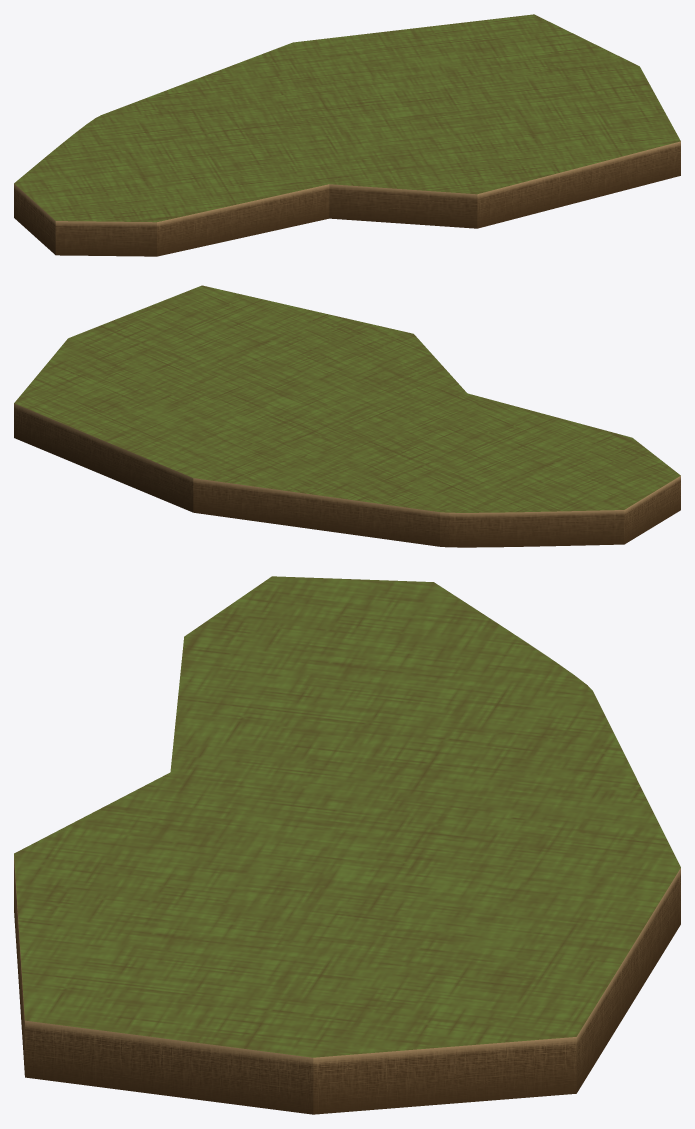
Rendered from Terrain02_F.FBX.
The picture shows the model from 3 angles, top to bottom: view 1: azimuth 30°, elevation 25°; view 2: azimuth 150°, elevation 25°; view 3: azimuth 270°, elevation 25°; orthographic projection. The views are drawn at different scales.
Parts seen in each view (by area): view 1: Terrain02_F; view 2: Terrain02_F; view 3: Terrain02_F.
Part boxes in pixels (left/top/right/bottom): Terrain02_F: left=14, top=14, right=680, bottom=256; Terrain02_F: left=14, top=285, right=680, bottom=547; Terrain02_F: left=14, top=576, right=680, bottom=1114.
Size of the model in its own units: 917 by 50.55 by 537.
1 material, 1 textured.
